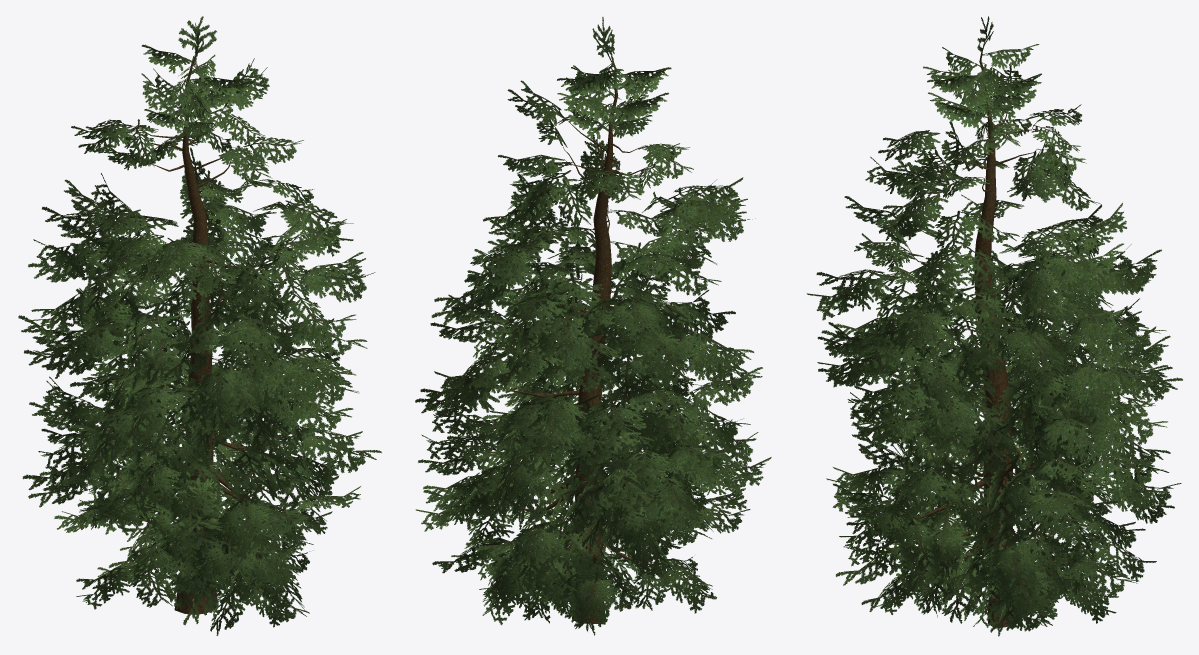
Rendered from w_fir3.glb.
3 views of the same model, side by side, from view 1: azimuth 30°, elevation 25°; view 2: azimuth 150°, elevation 25°; view 3: azimuth 270°, elevation 25° (orthographic).
Parts seen in each view (by area): view 1: body|Brunches_Mat, body|Bark_Mat; view 2: body|Brunches_Mat, body|Bark_Mat; view 3: body|Brunches_Mat, body|Bark_Mat.
Boxes of the visible parts, bbox=[...] form: body|Brunches_Mat: bbox=[18, 16, 381, 635]; body|Bark_Mat: bbox=[132, 56, 291, 614]; body|Brunches_Mat: bbox=[415, 17, 771, 635]; body|Bark_Mat: bbox=[493, 56, 690, 624]; body|Brunches_Mat: bbox=[806, 16, 1182, 636]; body|Bark_Mat: bbox=[905, 51, 1070, 628].
Bounding box in the file's own units: 4.54 × 8.1 × 4.64.
Materials: 2 (2 with a texture image).
